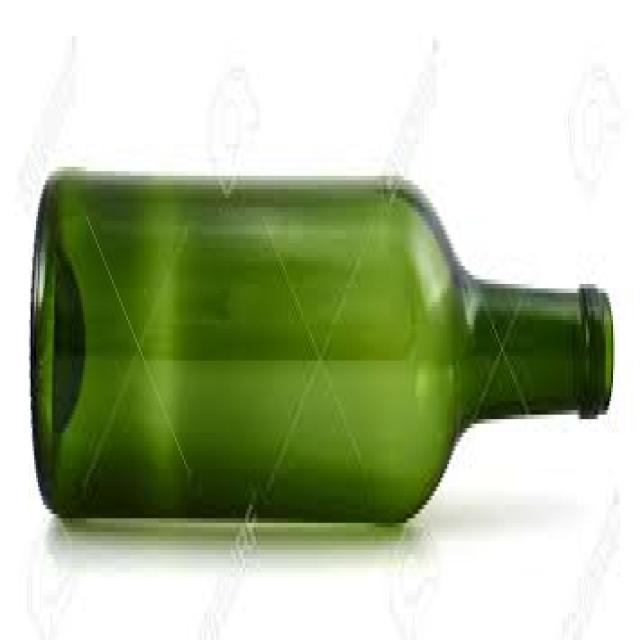glass: (27, 167, 611, 523)
